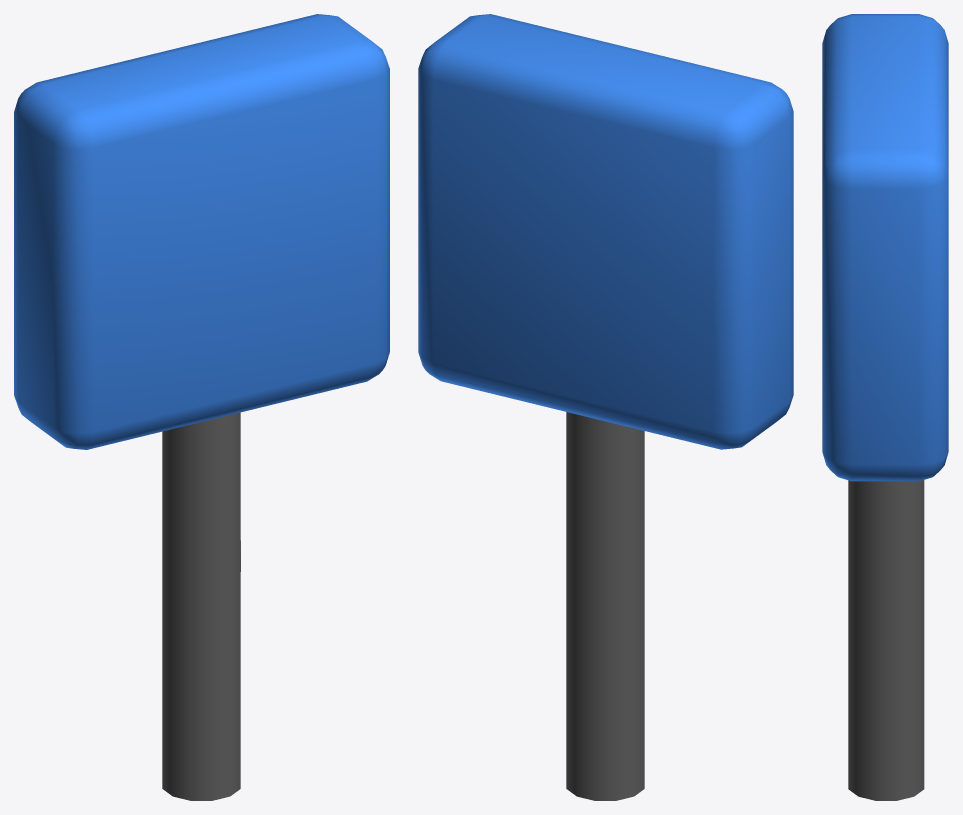
File: ColorPanel.fbx
The picture shows the model from 3 angles, left to right: view 1: azimuth 30°, elevation 25°; view 2: azimuth 150°, elevation 25°; view 3: azimuth 270°, elevation 25°; orthographic projection. The views are drawn at different scales.
Parts seen in each view (by area): view 1: Panel, ColorPanel; view 2: Panel, ColorPanel; view 3: Panel, ColorPanel.
Part boxes in pixels (<box>): Panel: <box>14,14,389,449</box>; ColorPanel: <box>162,412,240,800</box>; Panel: <box>418,14,793,449</box>; ColorPanel: <box>566,412,644,800</box>; Panel: <box>822,14,948,481</box>; ColorPanel: <box>848,480,924,800</box>.
Size of the model in its own units: 154 by 320 by 52.18.
